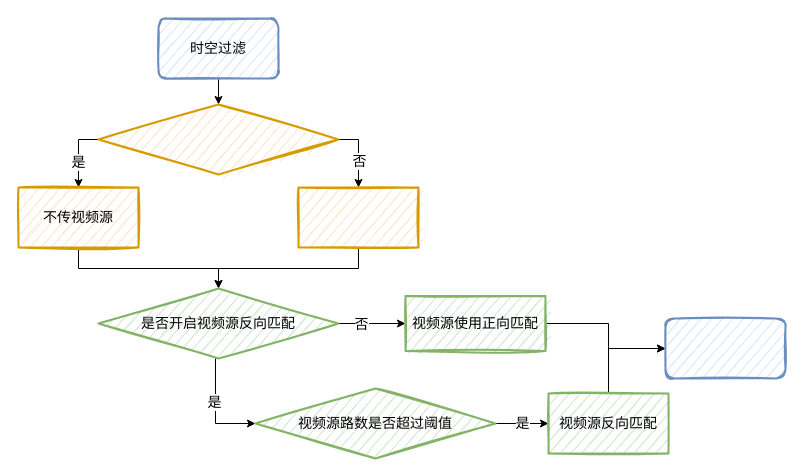
This 803x476 diagram has some shape labels left out. The shapes that lost their labels are listed below. From the top down, each one's centre as x and y in pixels, then its label:
point 218,139: 视频源全选时，是否传全部视频源
point 358,217: 查询视频源为本系统已接入的所有视频源
point 725,348: 查询structdb，并返回结果
